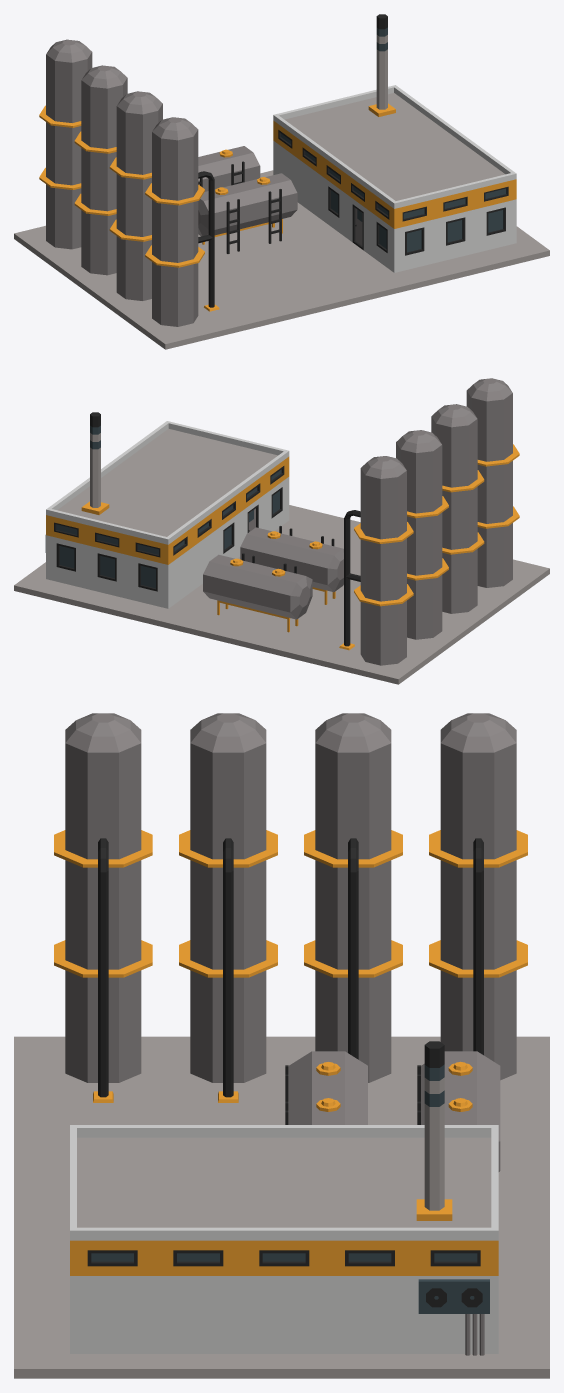
Rendered from buildings_industry-refinery.fbx.
3 views of the same model, one above another, from view 1: azimuth 30°, elevation 25°; view 2: azimuth 150°, elevation 25°; view 3: azimuth 270°, elevation 25° (orthographic). The views are drawn at different scales.
Parts seen in each view (by area): view 1: buildings_industry_refinery; view 2: buildings_industry_refinery; view 3: buildings_industry_refinery.
Boxes of the visible parts, <box> form: buildings_industry_refinery: <box>14,14,549,349</box>; buildings_industry_refinery: <box>14,378,549,684</box>; buildings_industry_refinery: <box>14,713,549,1378</box>.
Size of the model in its own units: 200 by 101 by 136.
